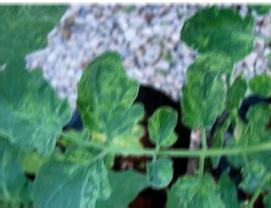Tomato leaf mosaic virus: (0, 61, 70, 155), (73, 52, 145, 141), (29, 146, 111, 208), (179, 9, 255, 66), (180, 54, 236, 130), (161, 164, 228, 208), (145, 102, 178, 149), (142, 155, 172, 190)
